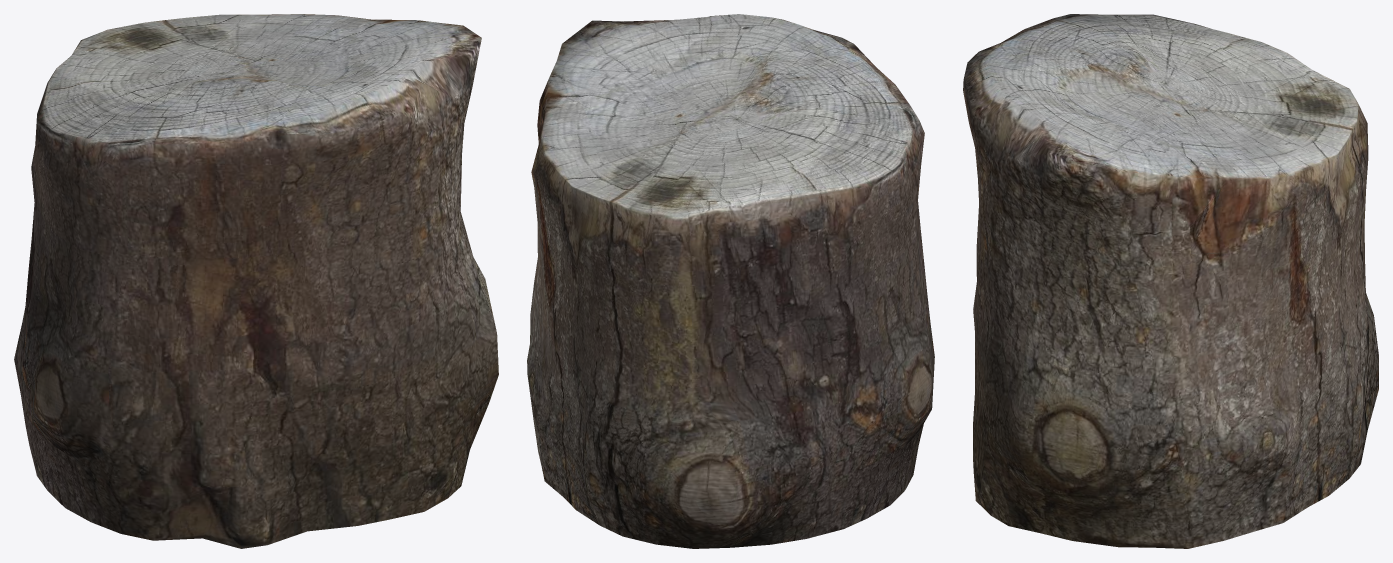
File: LoadedTreeModel.glb
The picture shows the model from 3 angles, left to right: view 1: azimuth 30°, elevation 25°; view 2: azimuth 150°, elevation 25°; view 3: azimuth 270°, elevation 25°; orthographic projection. The views are drawn at different scales.
Visible parts, largest first — view 1: tronc_low; view 2: tronc_low; view 3: tronc_low.
Part boxes in pixels (bbox=[...]): tronc_low: bbox=[14, 14, 498, 548]; tronc_low: bbox=[527, 14, 934, 548]; tronc_low: bbox=[963, 14, 1378, 548].
Size of the model in its own units: 82.23 by 79.66 by 74.91.
1 material, 1 textured.
